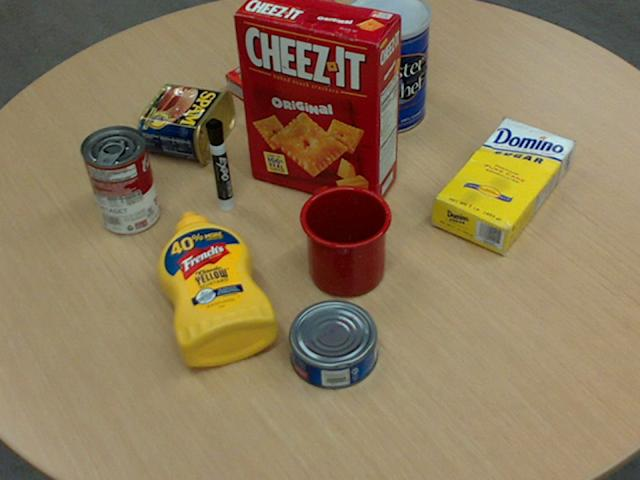cracker_box: (234, 0, 401, 207)
gelatin_box: (223, 51, 308, 116)
large_marker: (204, 118, 233, 212)
master_chef_can: (343, 0, 430, 134)
mug: (298, 184, 391, 296)
mustard_bottle: (156, 211, 278, 365)
potted_meat_can: (137, 83, 234, 163)
sugar_box: (431, 118, 574, 254)
tomato_soup_can: (79, 123, 158, 233)
tuna_fish_can: (289, 300, 378, 389)
